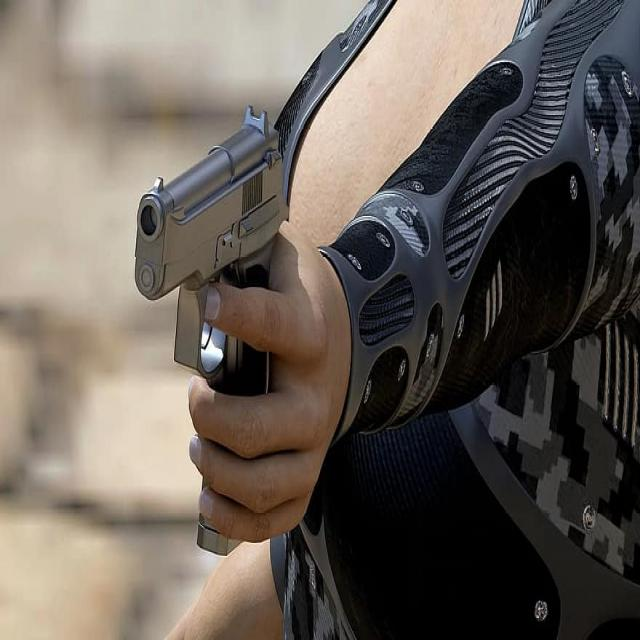gun: (134, 108, 284, 554)
